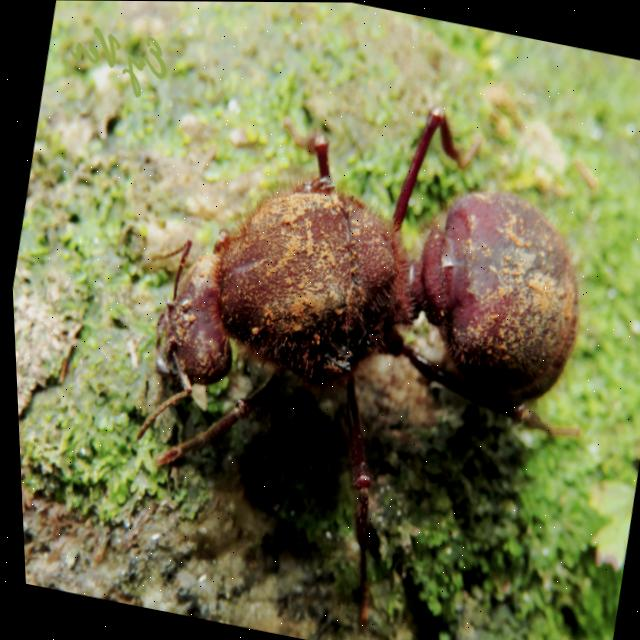Alive-Female-Dealate: (80, 55, 637, 640)
